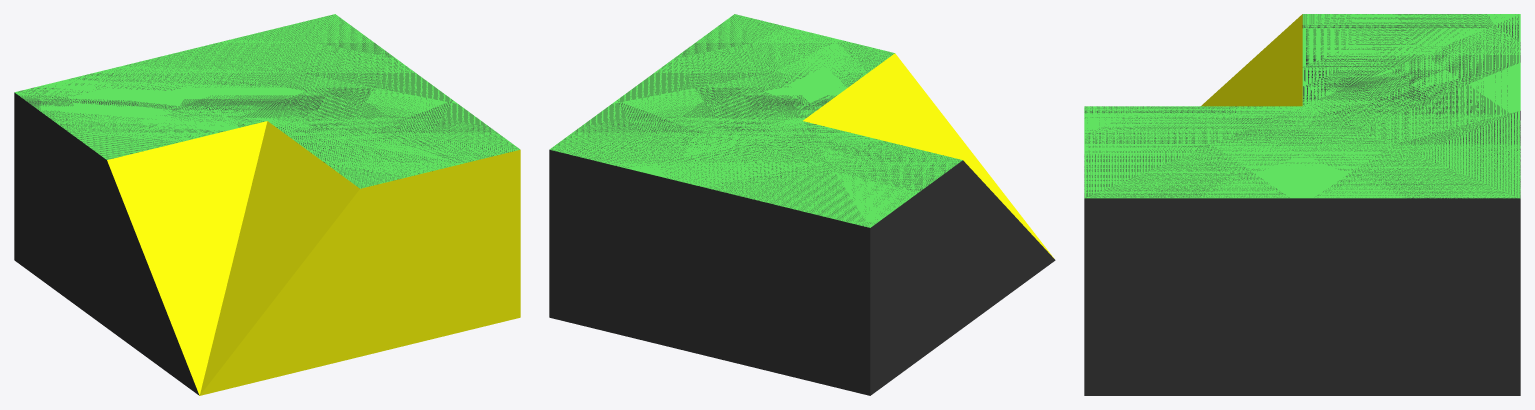
File: dice1.dae
3 views of the same model, side by side, from view 1: azimuth 30°, elevation 25°; view 2: azimuth 150°, elevation 25°; view 3: azimuth 270°, elevation 25° (orthographic). The views are drawn at different scales.
Visible parts, largest first — view 1: dice1 (×3); view 2: dice1 (×3); view 3: dice1 (×3).
Boxes of the visible parts, x1,y1,x2,y2 form: dice1 (×3): (14, 14, 520, 395); dice1 (×3): (549, 14, 1055, 395); dice1 (×3): (1084, 14, 1520, 395).
Bounding box in the file's own units: 39.37 × 39.37 × 19.69.
